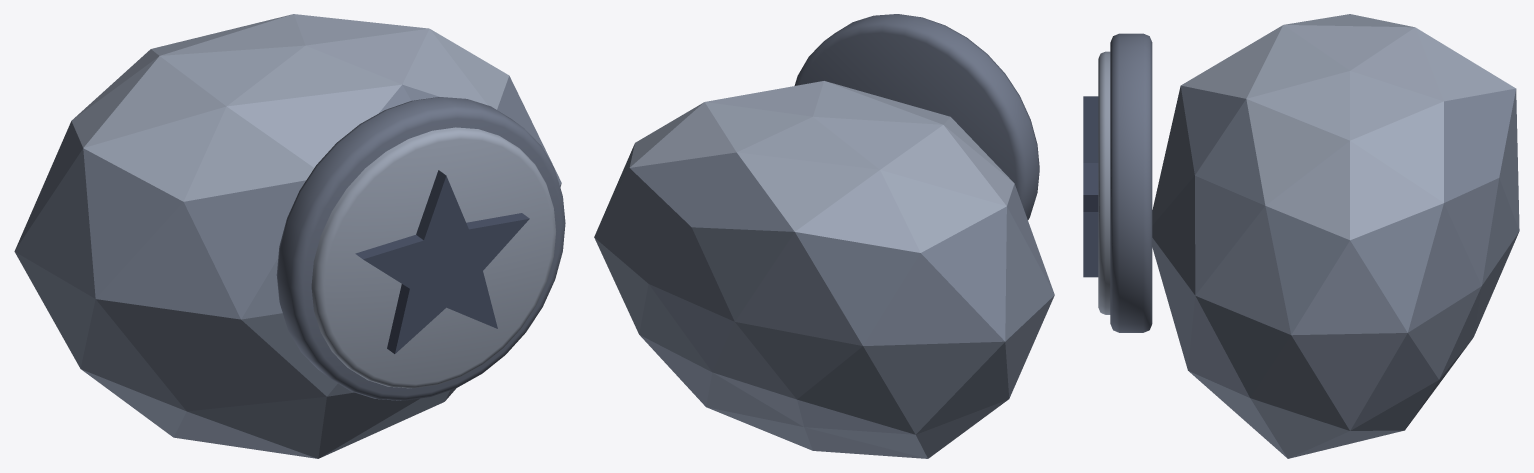
File: pedra-estrela.glb
The picture shows the model from 3 angles, left to right: view 1: azimuth 30°, elevation 25°; view 2: azimuth 150°, elevation 25°; view 3: azimuth 270°, elevation 25°; orthographic projection. The views are drawn at different scales.
Visible parts, largest first — view 1: pedra; view 2: pedra; view 3: pedra.
Part boxes in pixels (bbox=[...]): pedra: bbox=[14, 14, 565, 458]; pedra: bbox=[594, 14, 1054, 458]; pedra: bbox=[1083, 14, 1519, 458].
Size of what is drawn, in the model's own units: 0.8767 by 0.71 by 0.7276.
